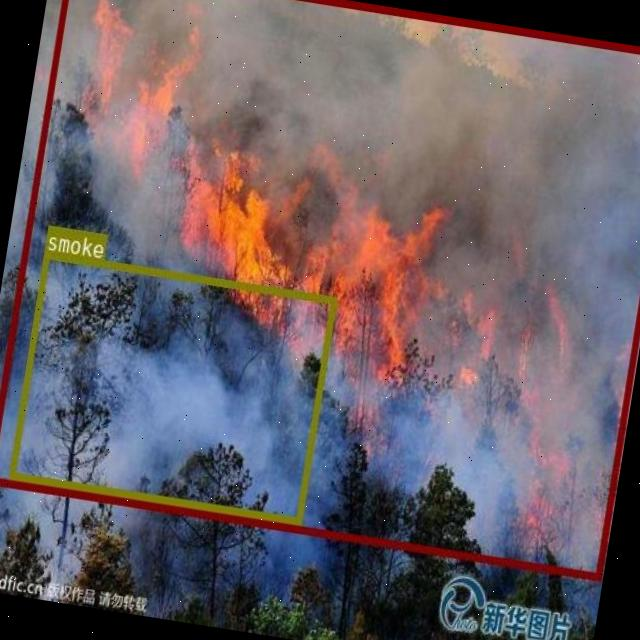fire: (0, 0, 640, 580)
smoke: (8, 250, 336, 524)
